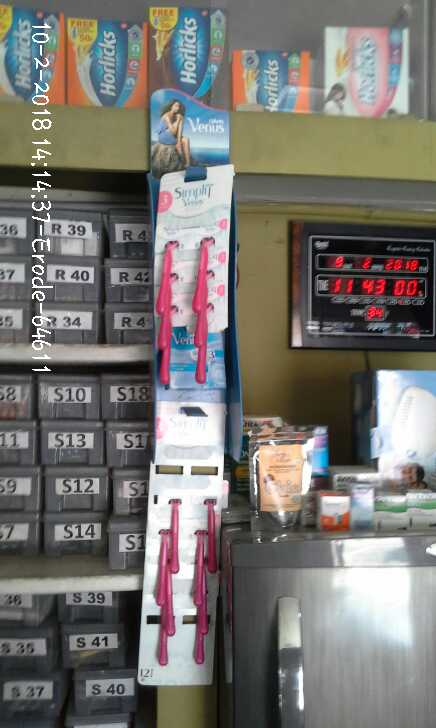reject: (233, 153, 297, 211)
